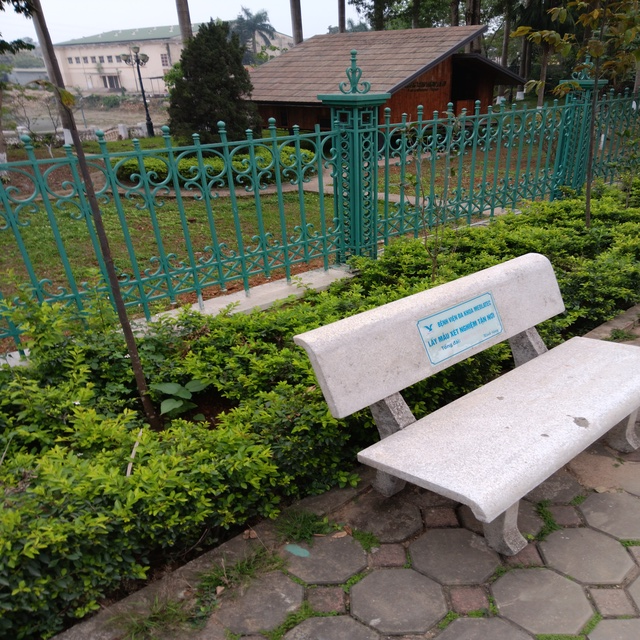gheda: (298, 247, 640, 548)
